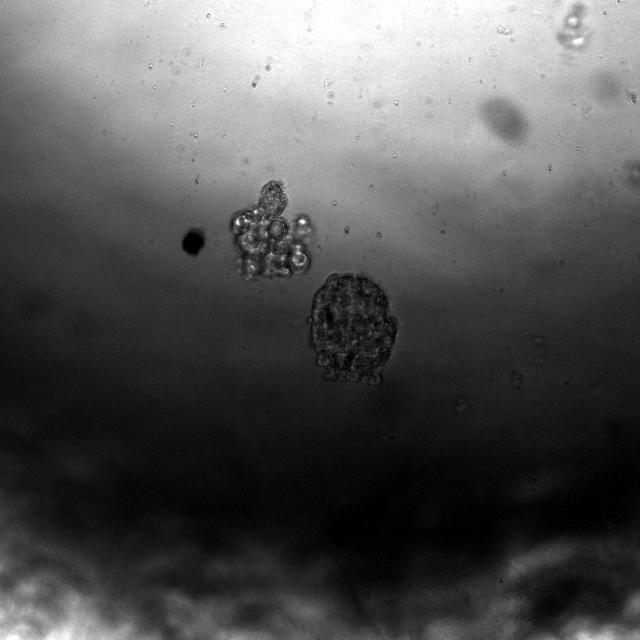organoid: (309, 274, 397, 385), (230, 180, 312, 279)
